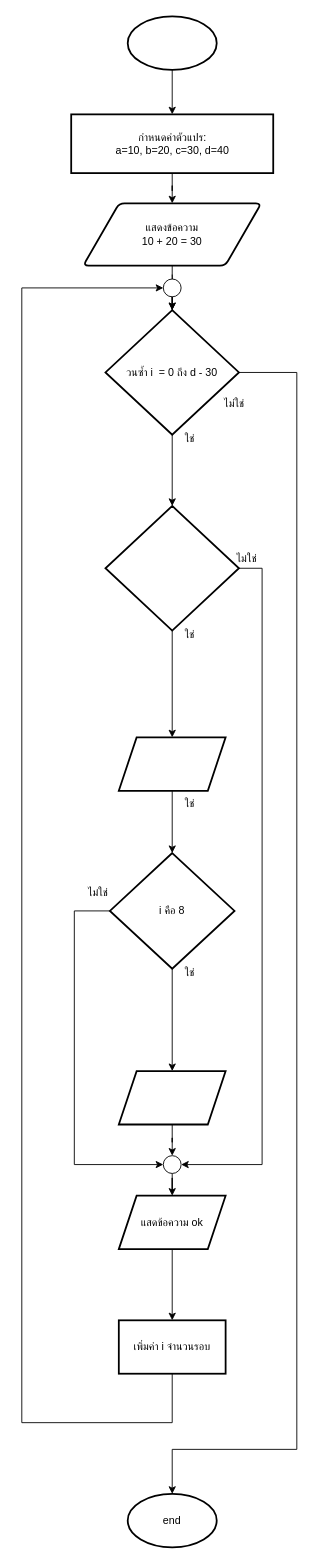
The diagram is 320 pixels wide and 1563 high, and some of its shapes have lost their labels. Each missing label, with the centre of its shape:
"i < 30" goes at (x=171, y=568).
"start" goes at (x=171, y=42).
"แสดง้อความ here" goes at (x=171, y=763).
"แสดง้อความ this is 8" goes at (x=171, y=1097).
